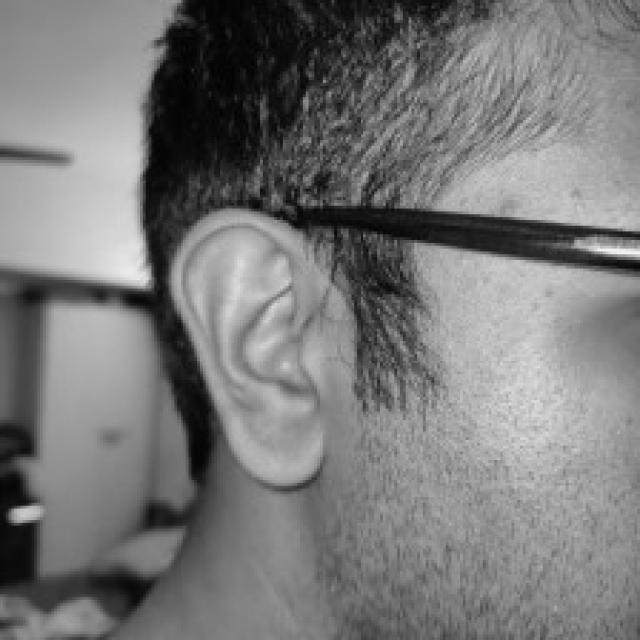ear: (171, 206, 320, 486)
